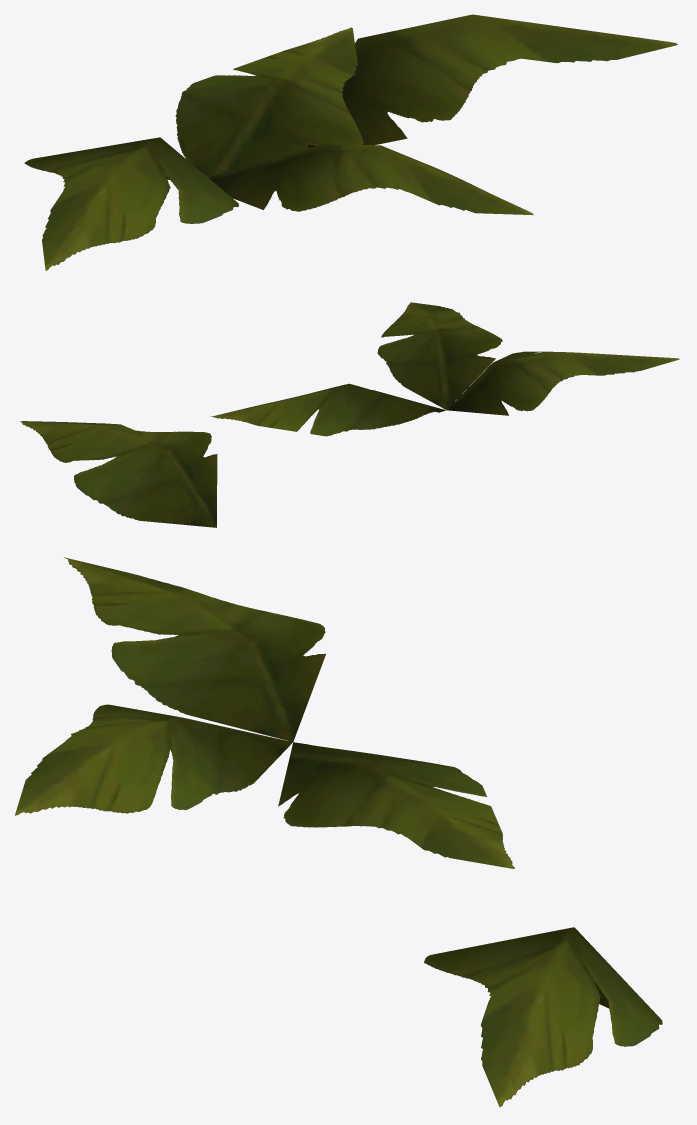
File: 110101_flower_023.FBX
The picture shows the model from 3 angles, top to bottom: view 1: azimuth 30°, elevation 25°; view 2: azimuth 150°, elevation 25°; view 3: azimuth 270°, elevation 25°; orthographic projection. The views are drawn at different scales.
Visible parts, largest first — view 1: 110101_flower_023; view 2: 110101_flower_023; view 3: 110101_flower_023.
Part boxes in pixels (left/top/right/bottom): 110101_flower_023: left=24, top=14, right=677, bottom=270; 110101_flower_023: left=20, top=302, right=679, bottom=527; 110101_flower_023: left=15, top=557, right=662, bottom=1107.
Size of the model in its own units: 0.9362 by 0.2368 by 0.6431.
